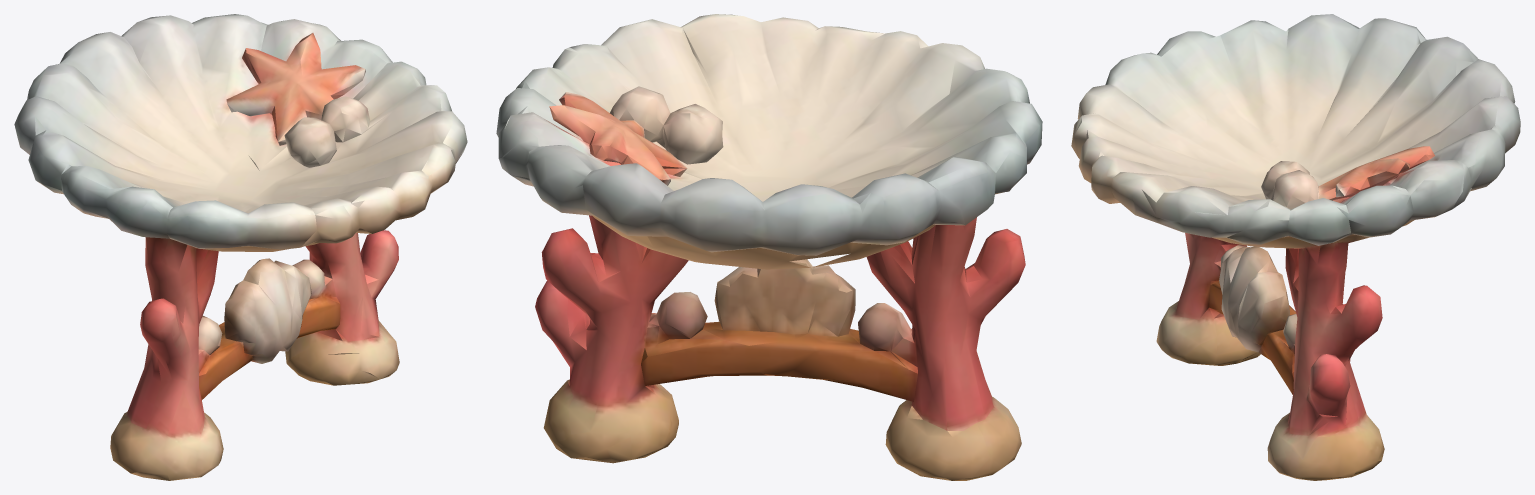
Rendered from table11.glb.
3 views of the same model, side by side, from view 1: azimuth 30°, elevation 25°; view 2: azimuth 150°, elevation 25°; view 3: azimuth 270°, elevation 25° (orthographic). The views are drawn at different scales.
Size of the model in its own units: 0.2168 by 0.1664 by 0.2158.
Materials: 1 (1 with a texture image).
